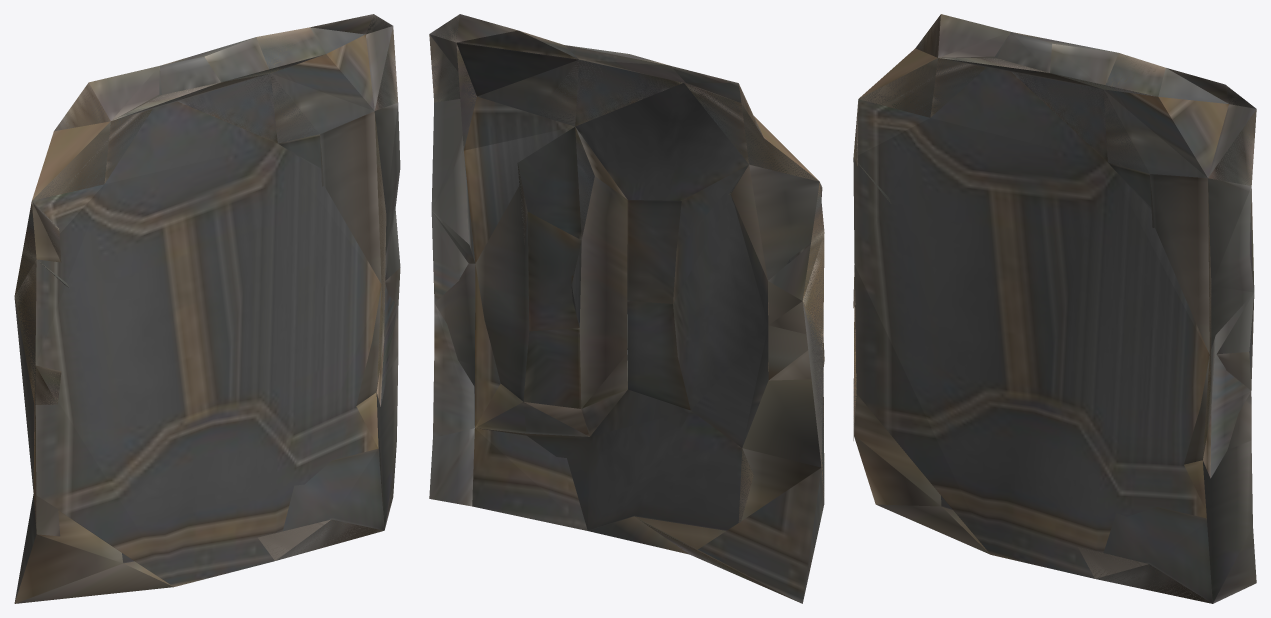
The model's file is imperial_city_gate__gate_left_lod2.glb.
The picture shows the model from 3 angles, left to right: view 1: azimuth 30°, elevation 25°; view 2: azimuth 150°, elevation 25°; view 3: azimuth 330°, elevation 25°; orthographic projection. The views are drawn at different scales.
Visible parts, largest first — view 1: mesh_node; view 2: mesh_node; view 3: mesh_node.
Boxes of the visible parts, x1=… form: mesh_node: x1=14, y1=14, x2=400, y2=603; mesh_node: x1=429, y1=14, x2=824, y2=603; mesh_node: x1=853, y1=14, x2=1256, y2=603.
Size of the model in its own units: 3.55 by 4.55 by 0.5486.
1 material, 1 textured.
